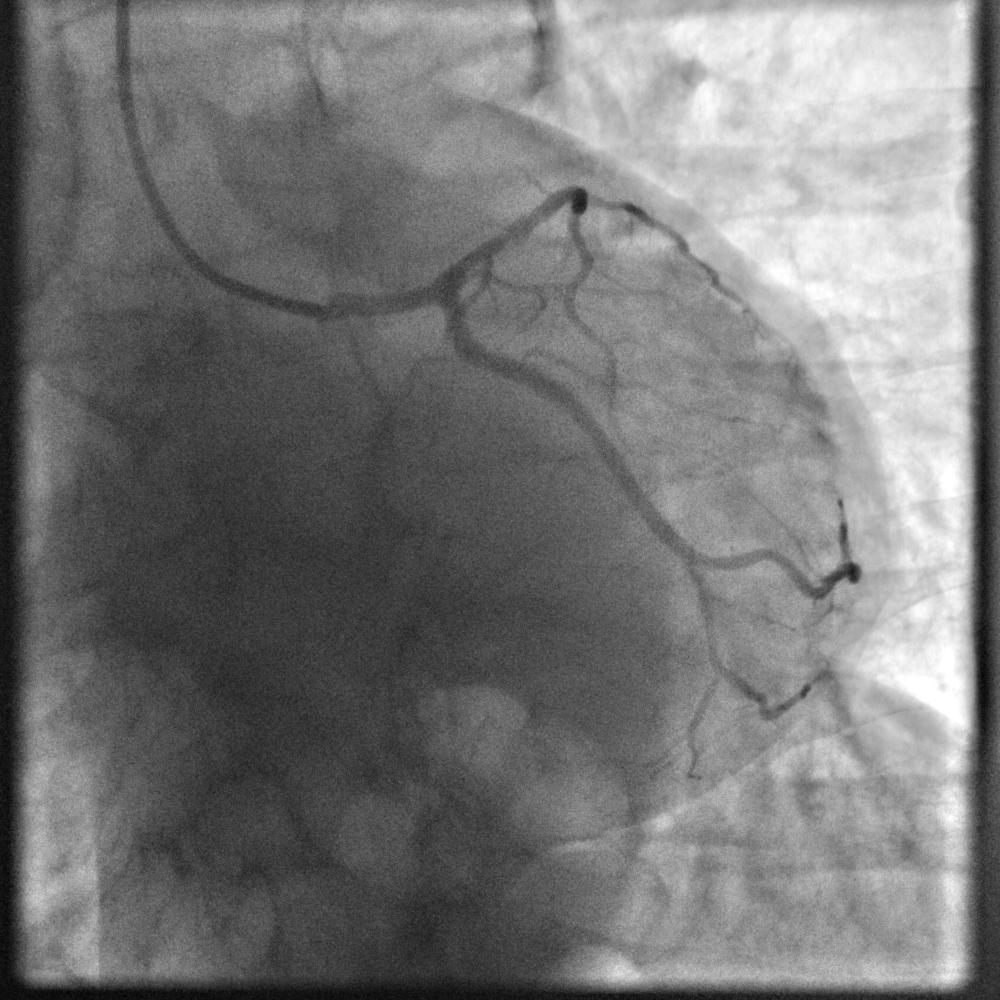Stenosis: (501, 226, 517, 241)
